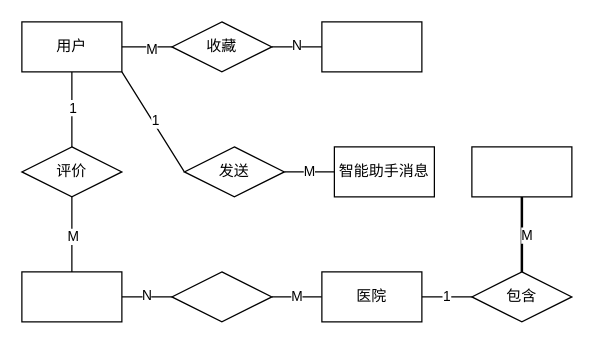
Image size: 594x344. Some labels were removed from this diagram. Here are the shapes that lost their labels. From the top down, the box of each, then its label:
(321, 21, 422, 72): 偏好
(471, 146, 572, 197): 部门
(21, 271, 122, 322): 评分
(171, 271, 272, 322): 被评价
